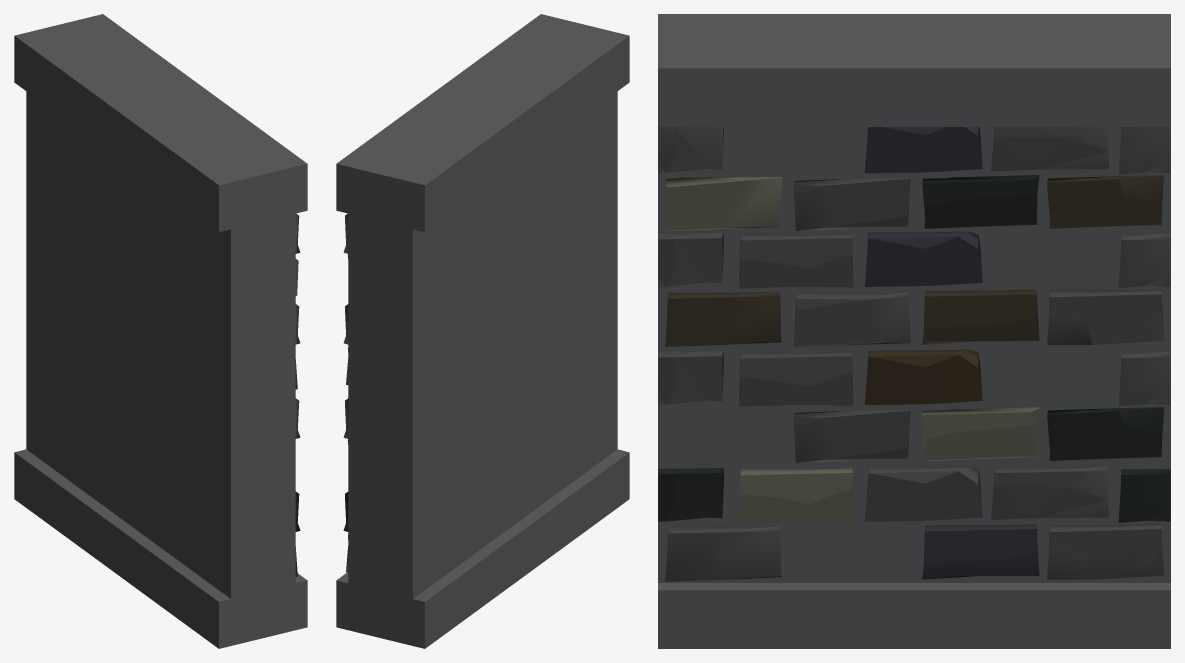
File: Wall2.fbx
The picture shows the model from 3 angles, left to right: view 1: azimuth 30°, elevation 25°; view 2: azimuth 150°, elevation 25°; view 3: azimuth 270°, elevation 25°; orthographic projection. The views are drawn at different scales.
Visible parts, largest first — view 1: Wall3; view 2: Wall3; view 3: Wall3.
Boxes of the visible parts, bbox=[...] form: Wall3: bbox=[14, 14, 307, 648]; Wall3: bbox=[336, 14, 629, 648]; Wall3: bbox=[658, 14, 1170, 648].
Size of the model in its own units: 100 by 500 by 400.
